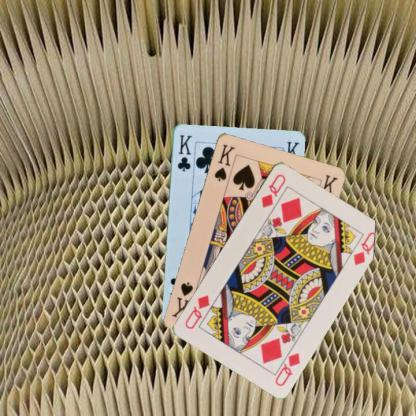Kc: (174, 132, 193, 172)
Ks: (212, 141, 236, 183)
Qd: (271, 343, 301, 387), (258, 171, 287, 209)
